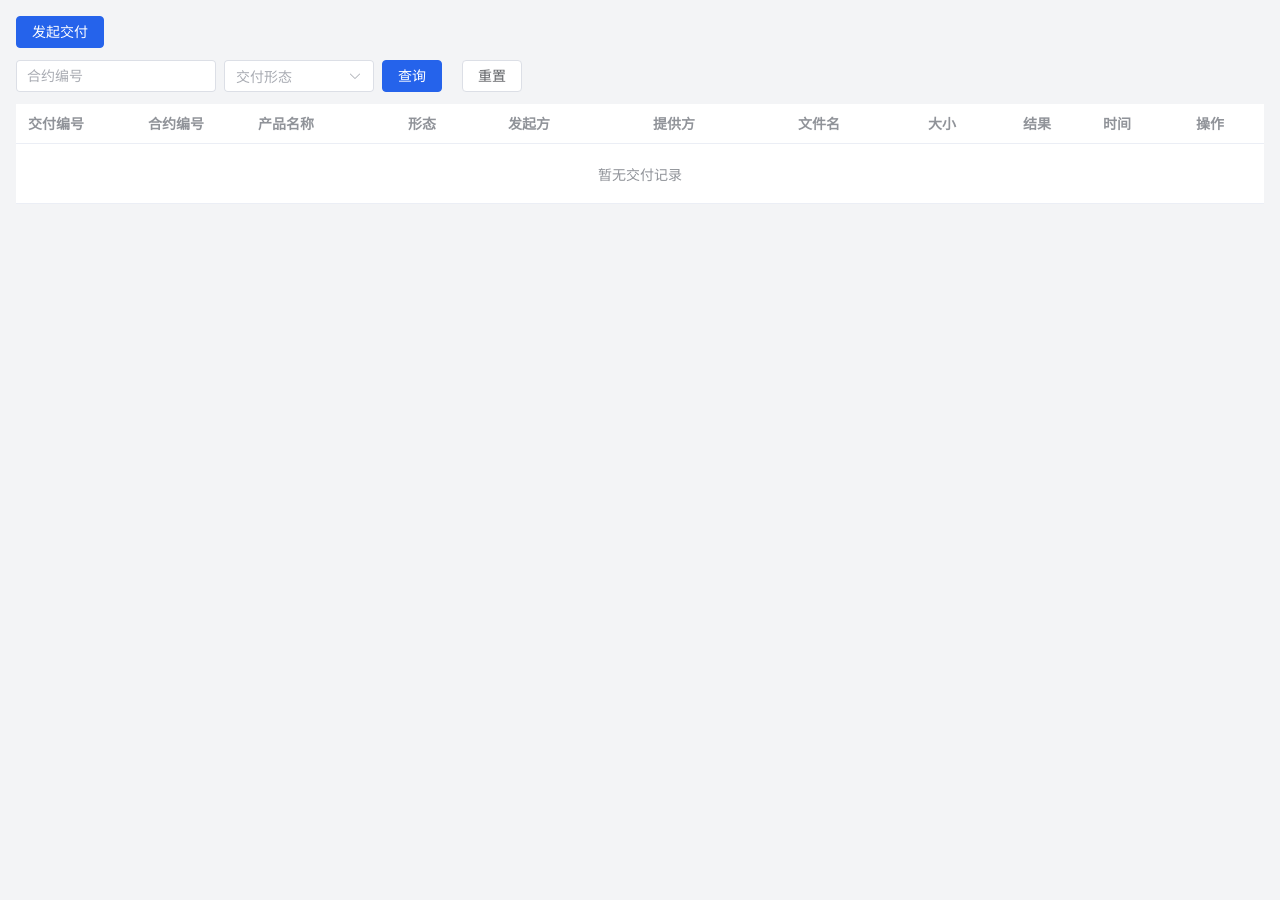
it: 发起交付弹窗（T5） › 被拒文案原样（1009C0006 形态不符），弹窗不吞错
Click the button "发起交付": [60, 32] box [16,16,104,48]
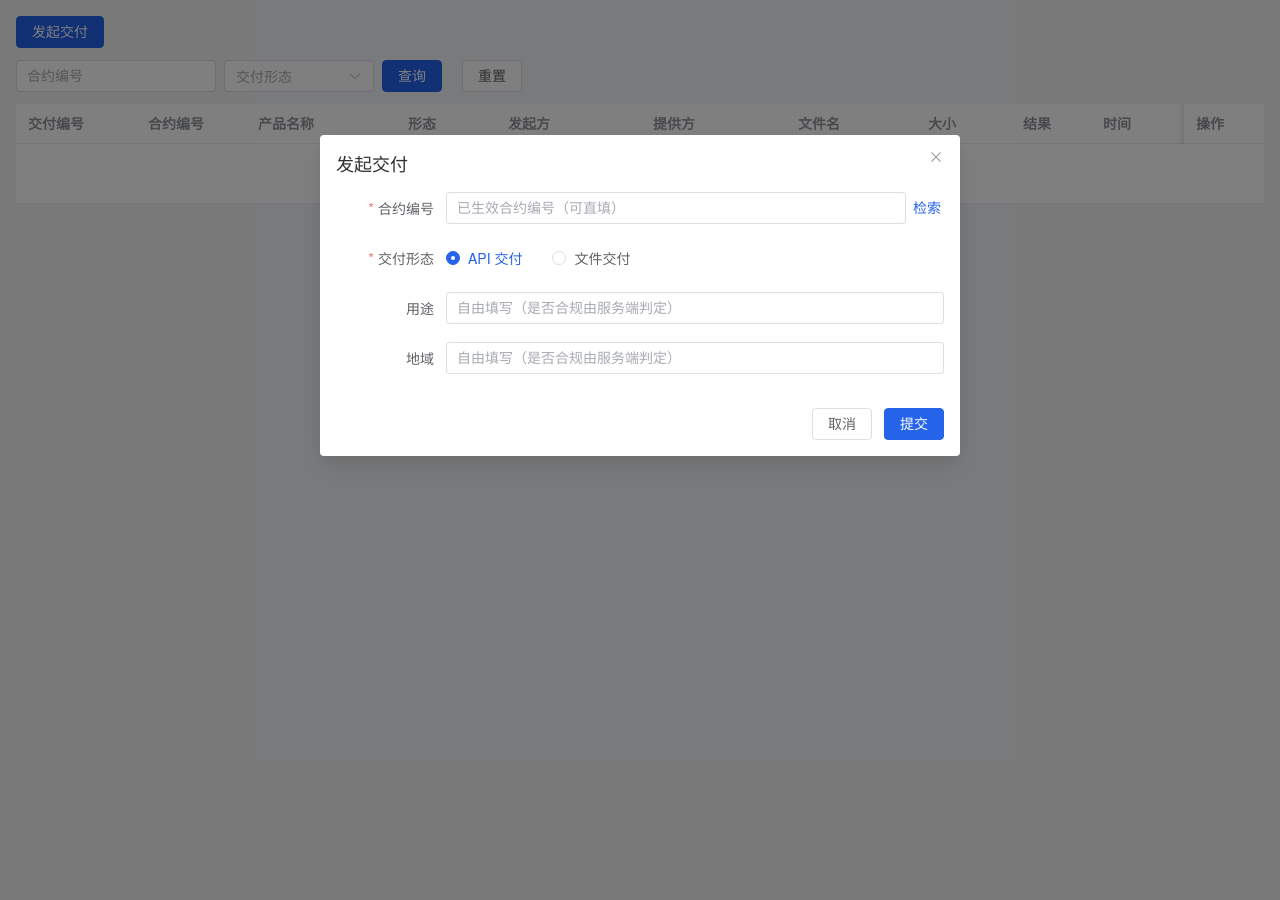
In the field labelled "合约编号": [676, 208] box [457,193,895,223], type "CO000026"
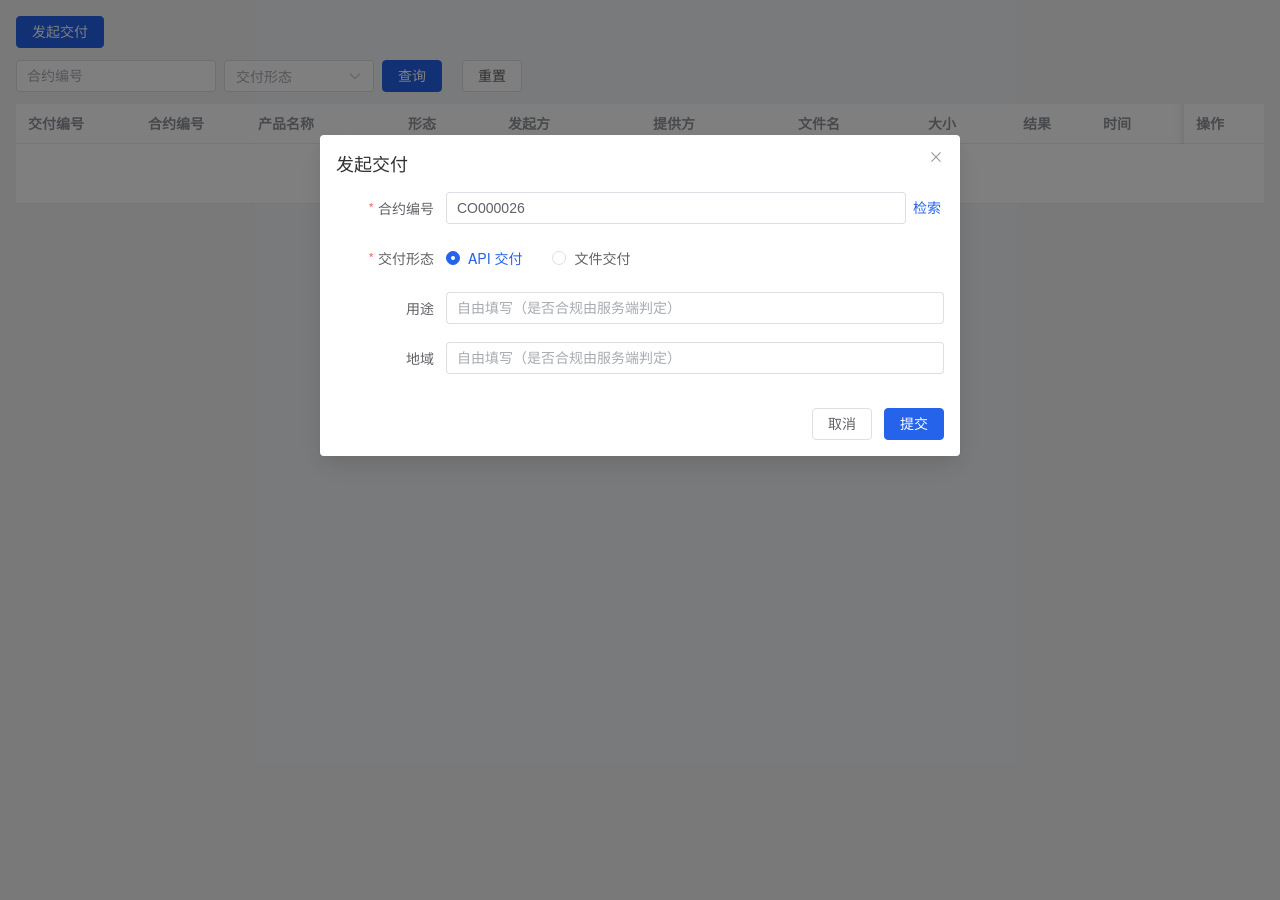
Click the button "提交": [914, 424] box [884,408,944,440]
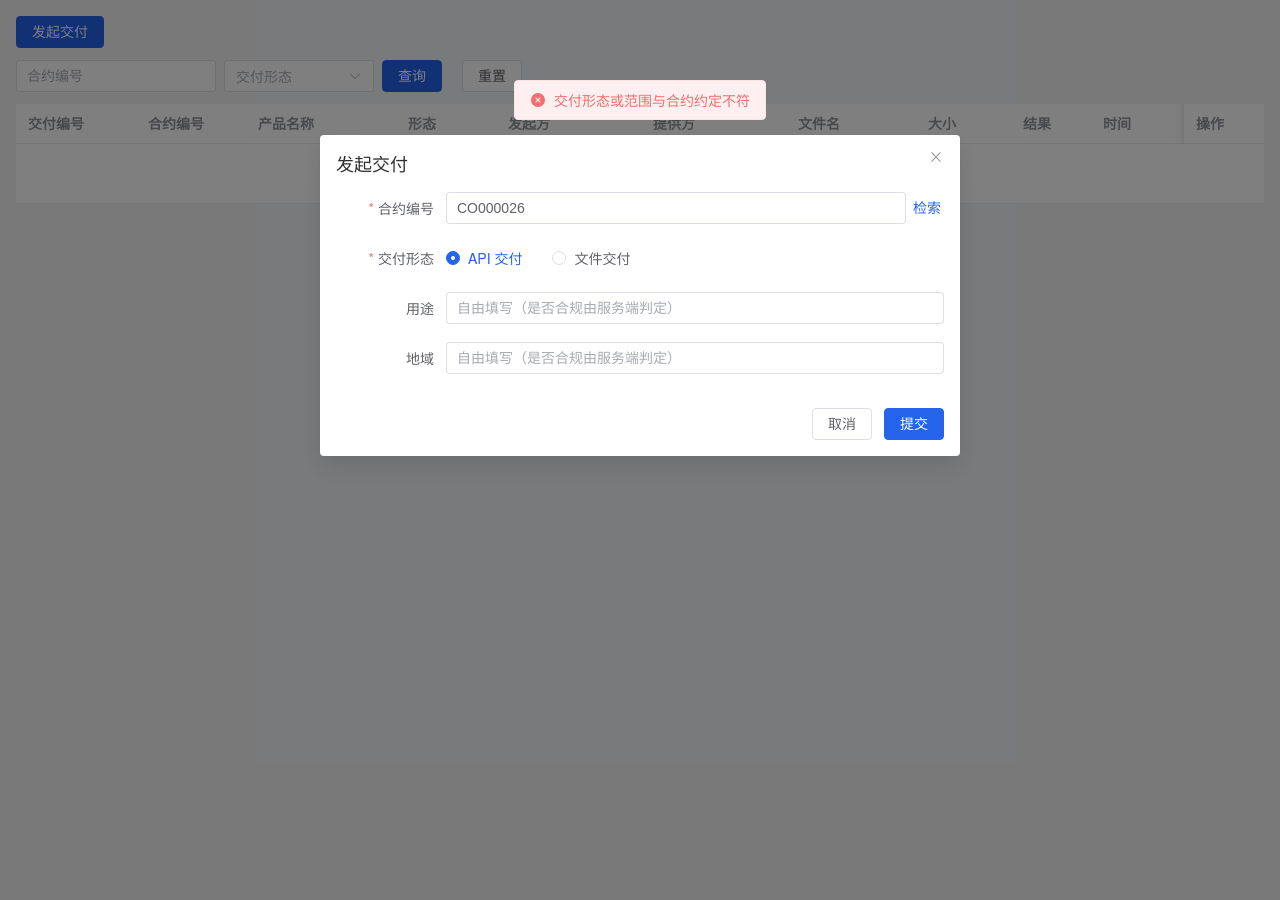
Result: the text "交付形态或范围与合约约定不符" is shown at [554,93,750,107]
